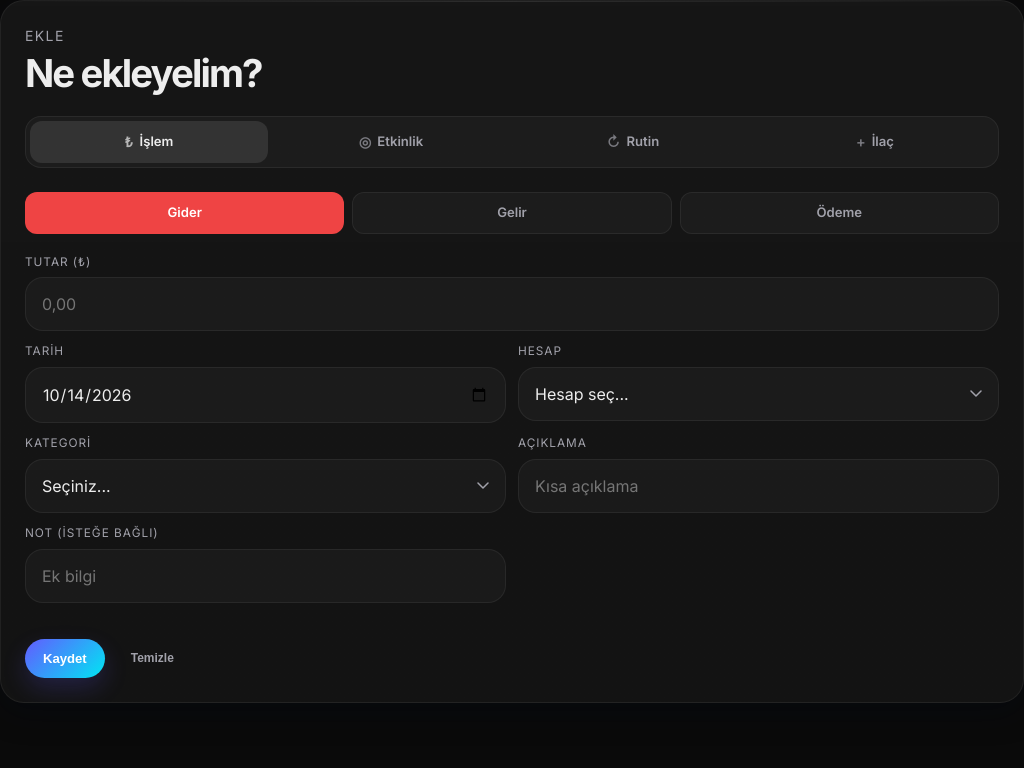
Test: AddPage › shows success banner after transaction save
Step 1. Type "50" into the number field labelled "Tutar (₺)" → (512, 304), box [25,278,999,332]
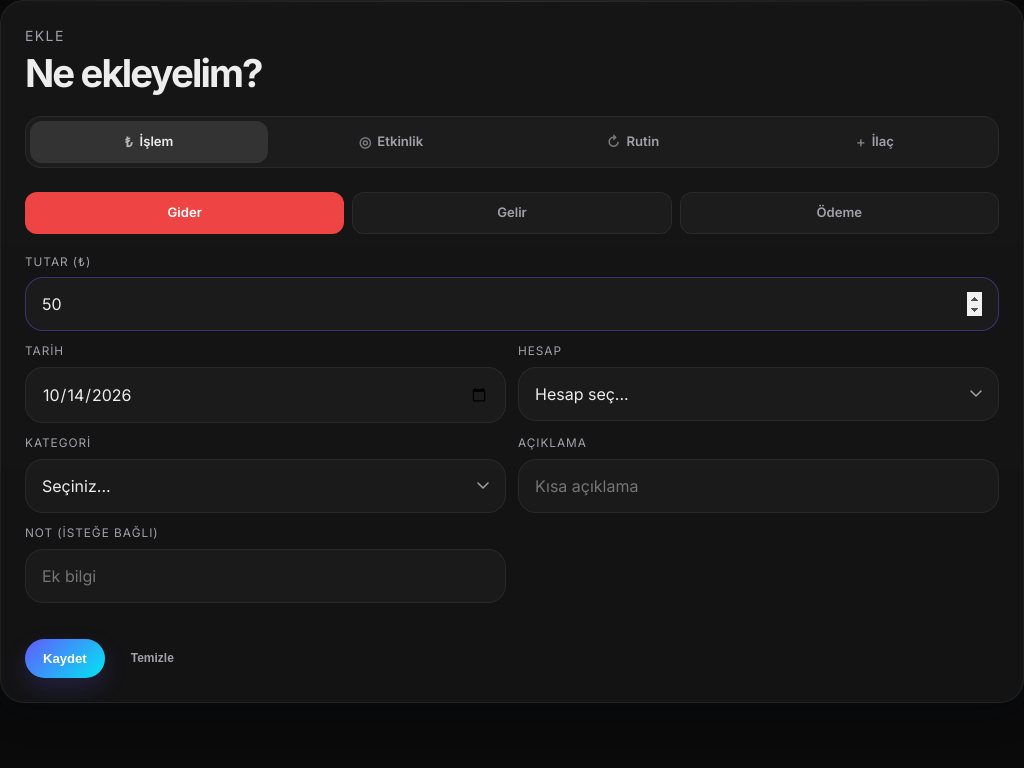
Step 2. Select "Enpara" in the dropdown labelled "Hesap" → (758, 394), box [518,367,999,421]
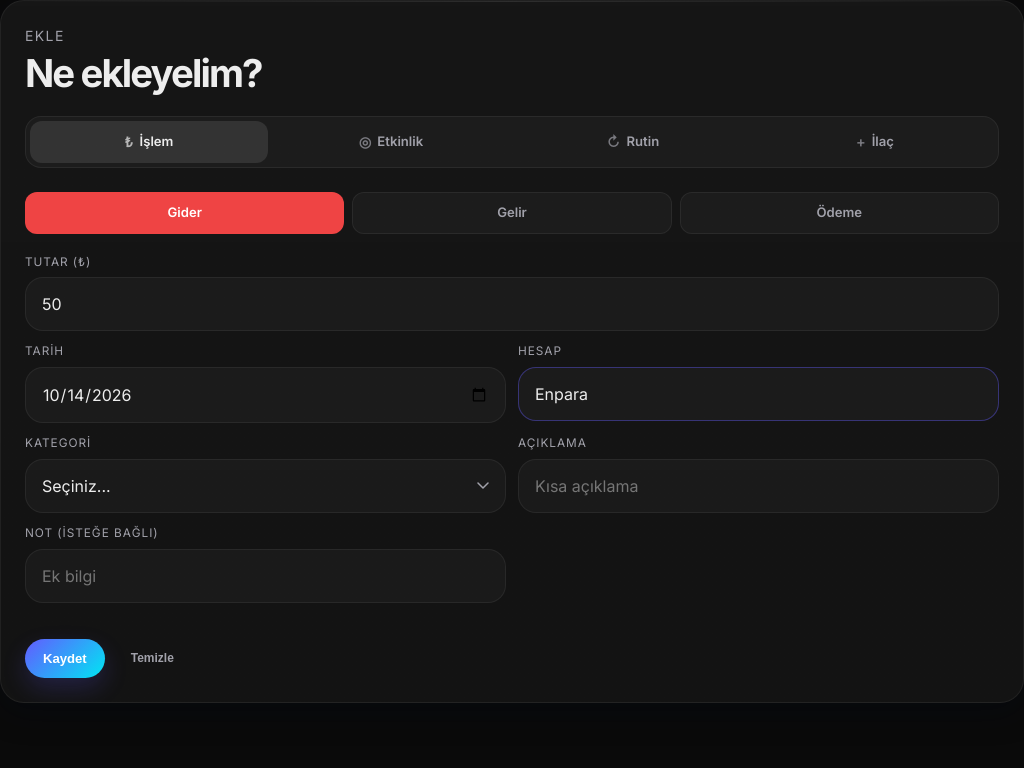
Step 3. Type "Kahve" into the field labelled "Açıklama" → (758, 486), box [518,459,999,513]
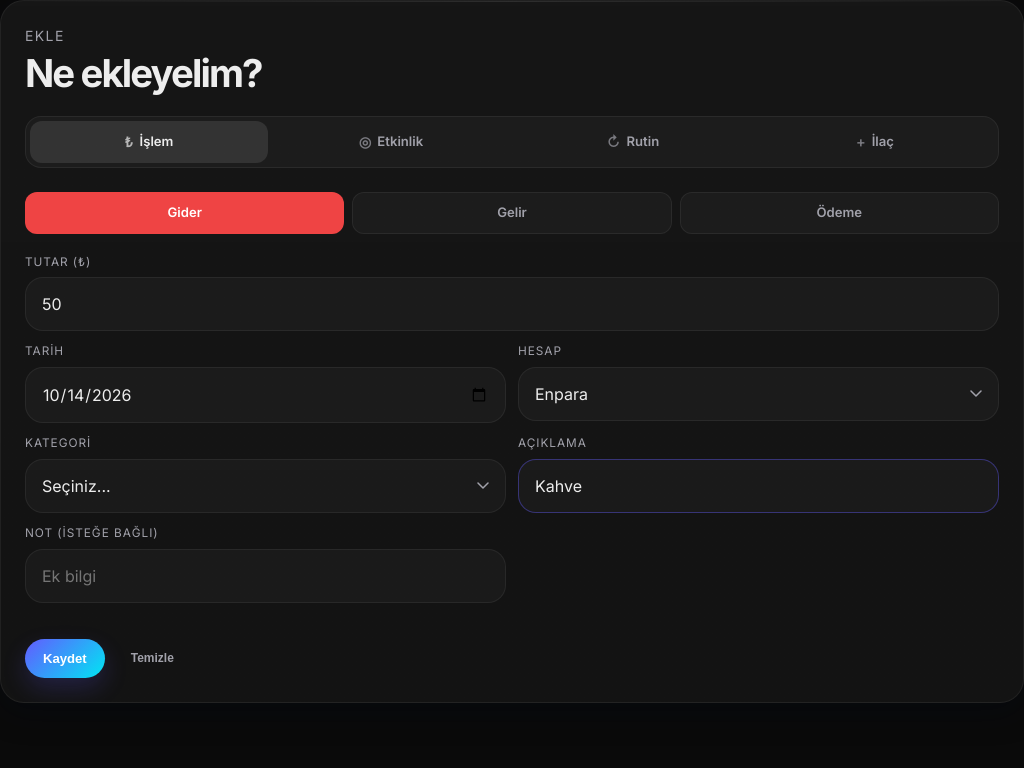
Step 4. Click the button "Kaydet" → click(65, 658), box [25,639,105,678]
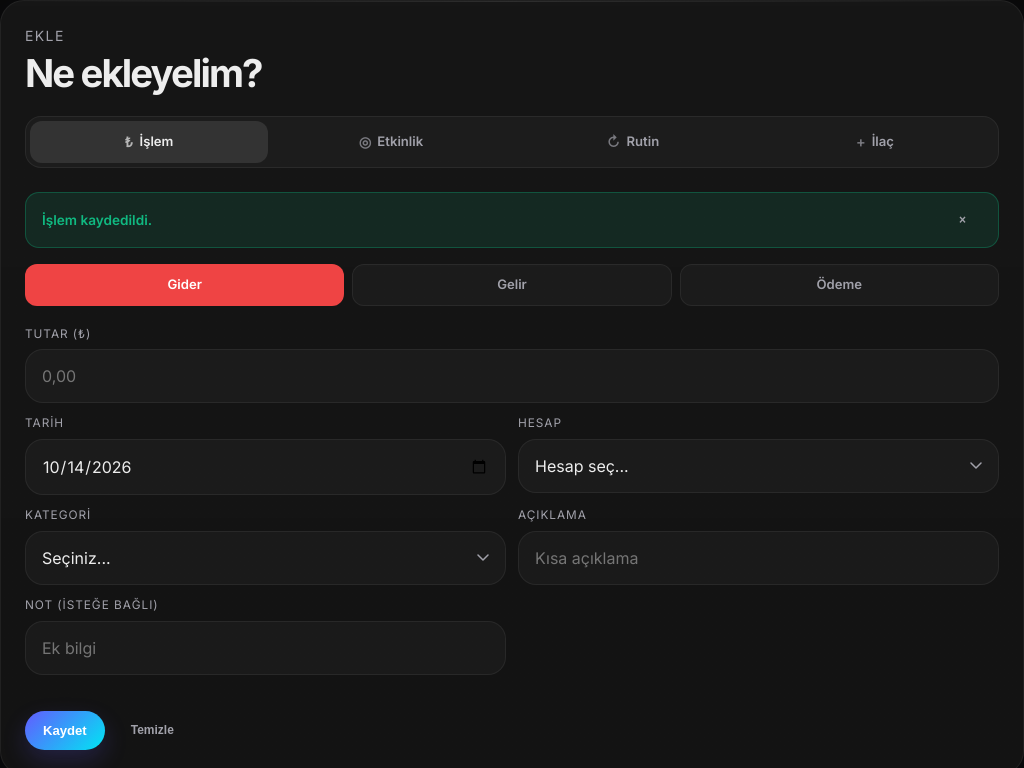
Result: the text "İşlem kaydedildi." is shown at [42,210,152,230]
